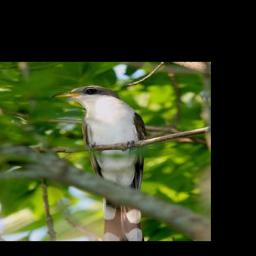Cuckoo: (49, 83, 150, 241)
